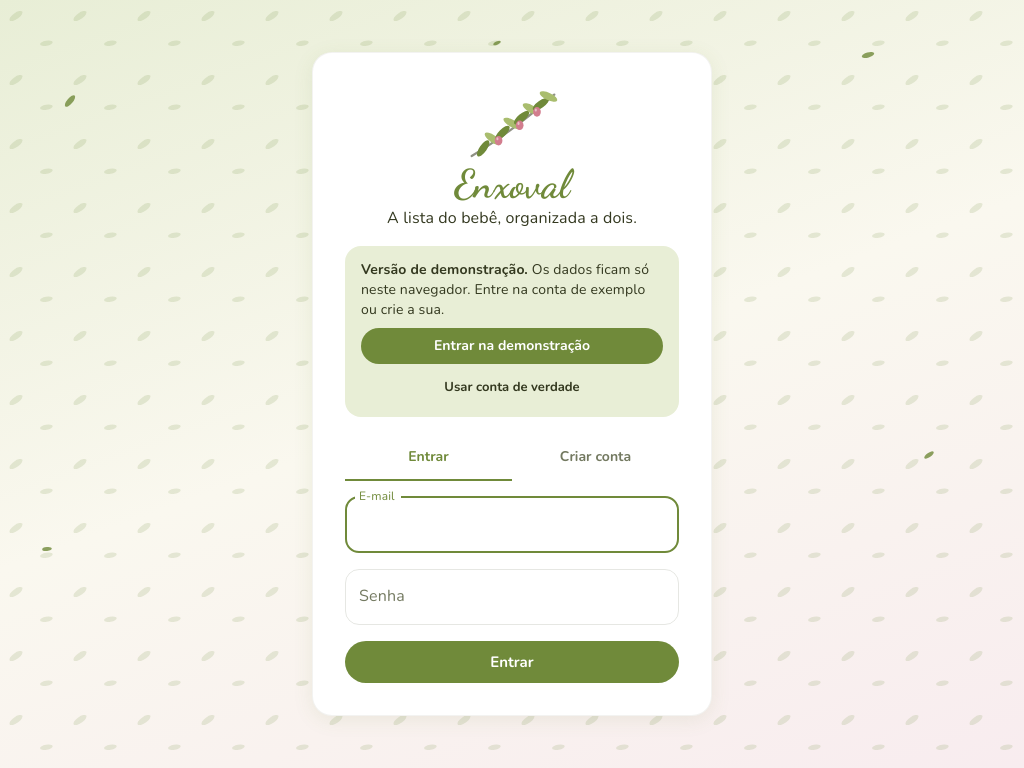
Test: sessão (fluxo pela tela) › entrar troca para o app e sair volta para a tela de entrada
Click the button "Entrar na demonstração": point(512, 346) [361,328,663,364]
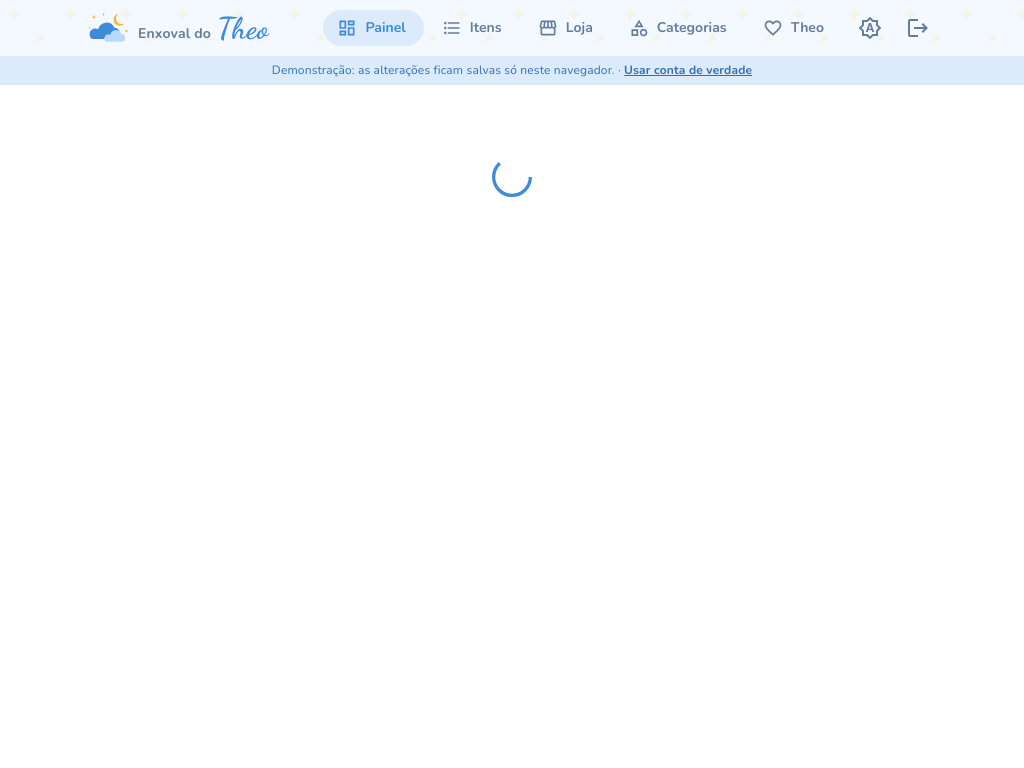
expect the text "Enxoval do" is shown: met, box [138,27,211,41]
Click the button named "Sair": point(918, 28) [898,8,938,48]
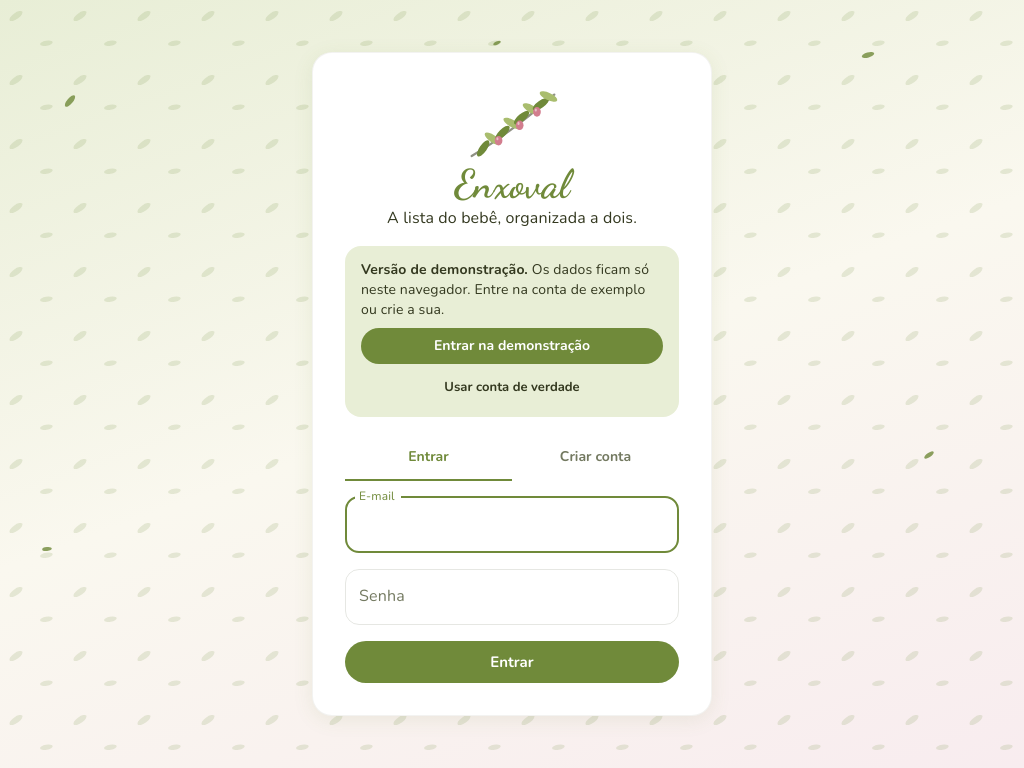
expect the button "Entrar na demonstração" is shown: met, box [361,328,663,364]
